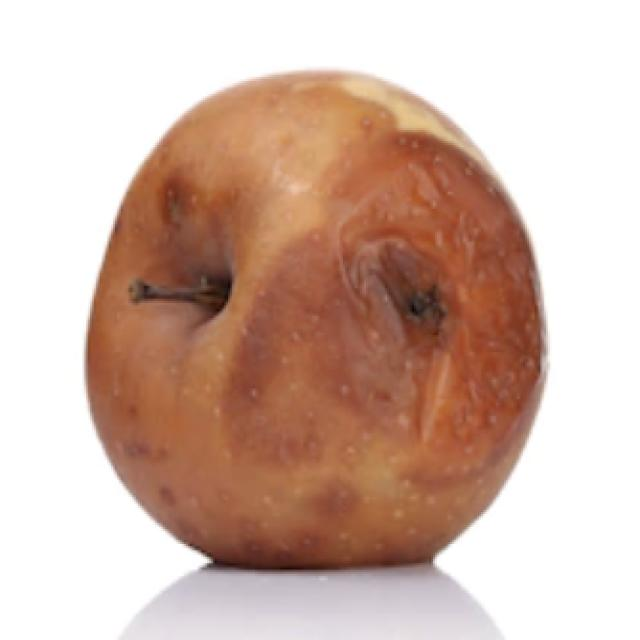apple: (87, 73, 546, 567)
